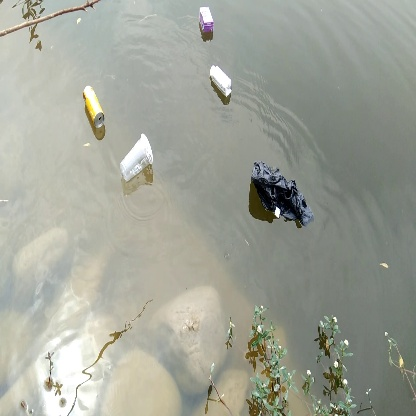bottle: (119, 134, 156, 185), (82, 85, 115, 133)
plastic-bag: (249, 159, 316, 227)
